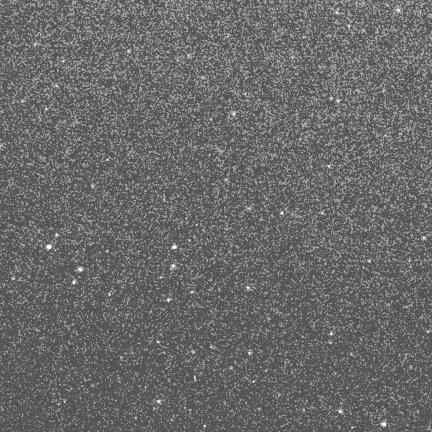blob: (46, 244, 52, 250), (171, 264, 177, 270), (78, 267, 84, 273), (55, 233, 60, 238), (381, 422, 386, 426), (172, 245, 177, 249), (246, 286, 251, 290), (336, 11, 340, 15), (397, 9, 401, 13), (11, 276, 15, 280), (427, 330, 431, 334), (248, 351, 252, 355), (72, 280, 76, 284), (167, 298, 171, 302), (248, 207, 252, 211), (422, 236, 426, 240), (338, 409, 342, 413), (127, 49, 131, 53), (330, 332, 334, 336), (157, 400, 161, 404), (280, 211, 283, 215), (63, 60, 66, 64), (368, 260, 372, 263), (330, 97, 334, 100), (191, 290, 194, 293), (348, 25, 351, 28), (328, 165, 331, 168), (192, 350, 195, 353), (337, 100, 340, 102)
